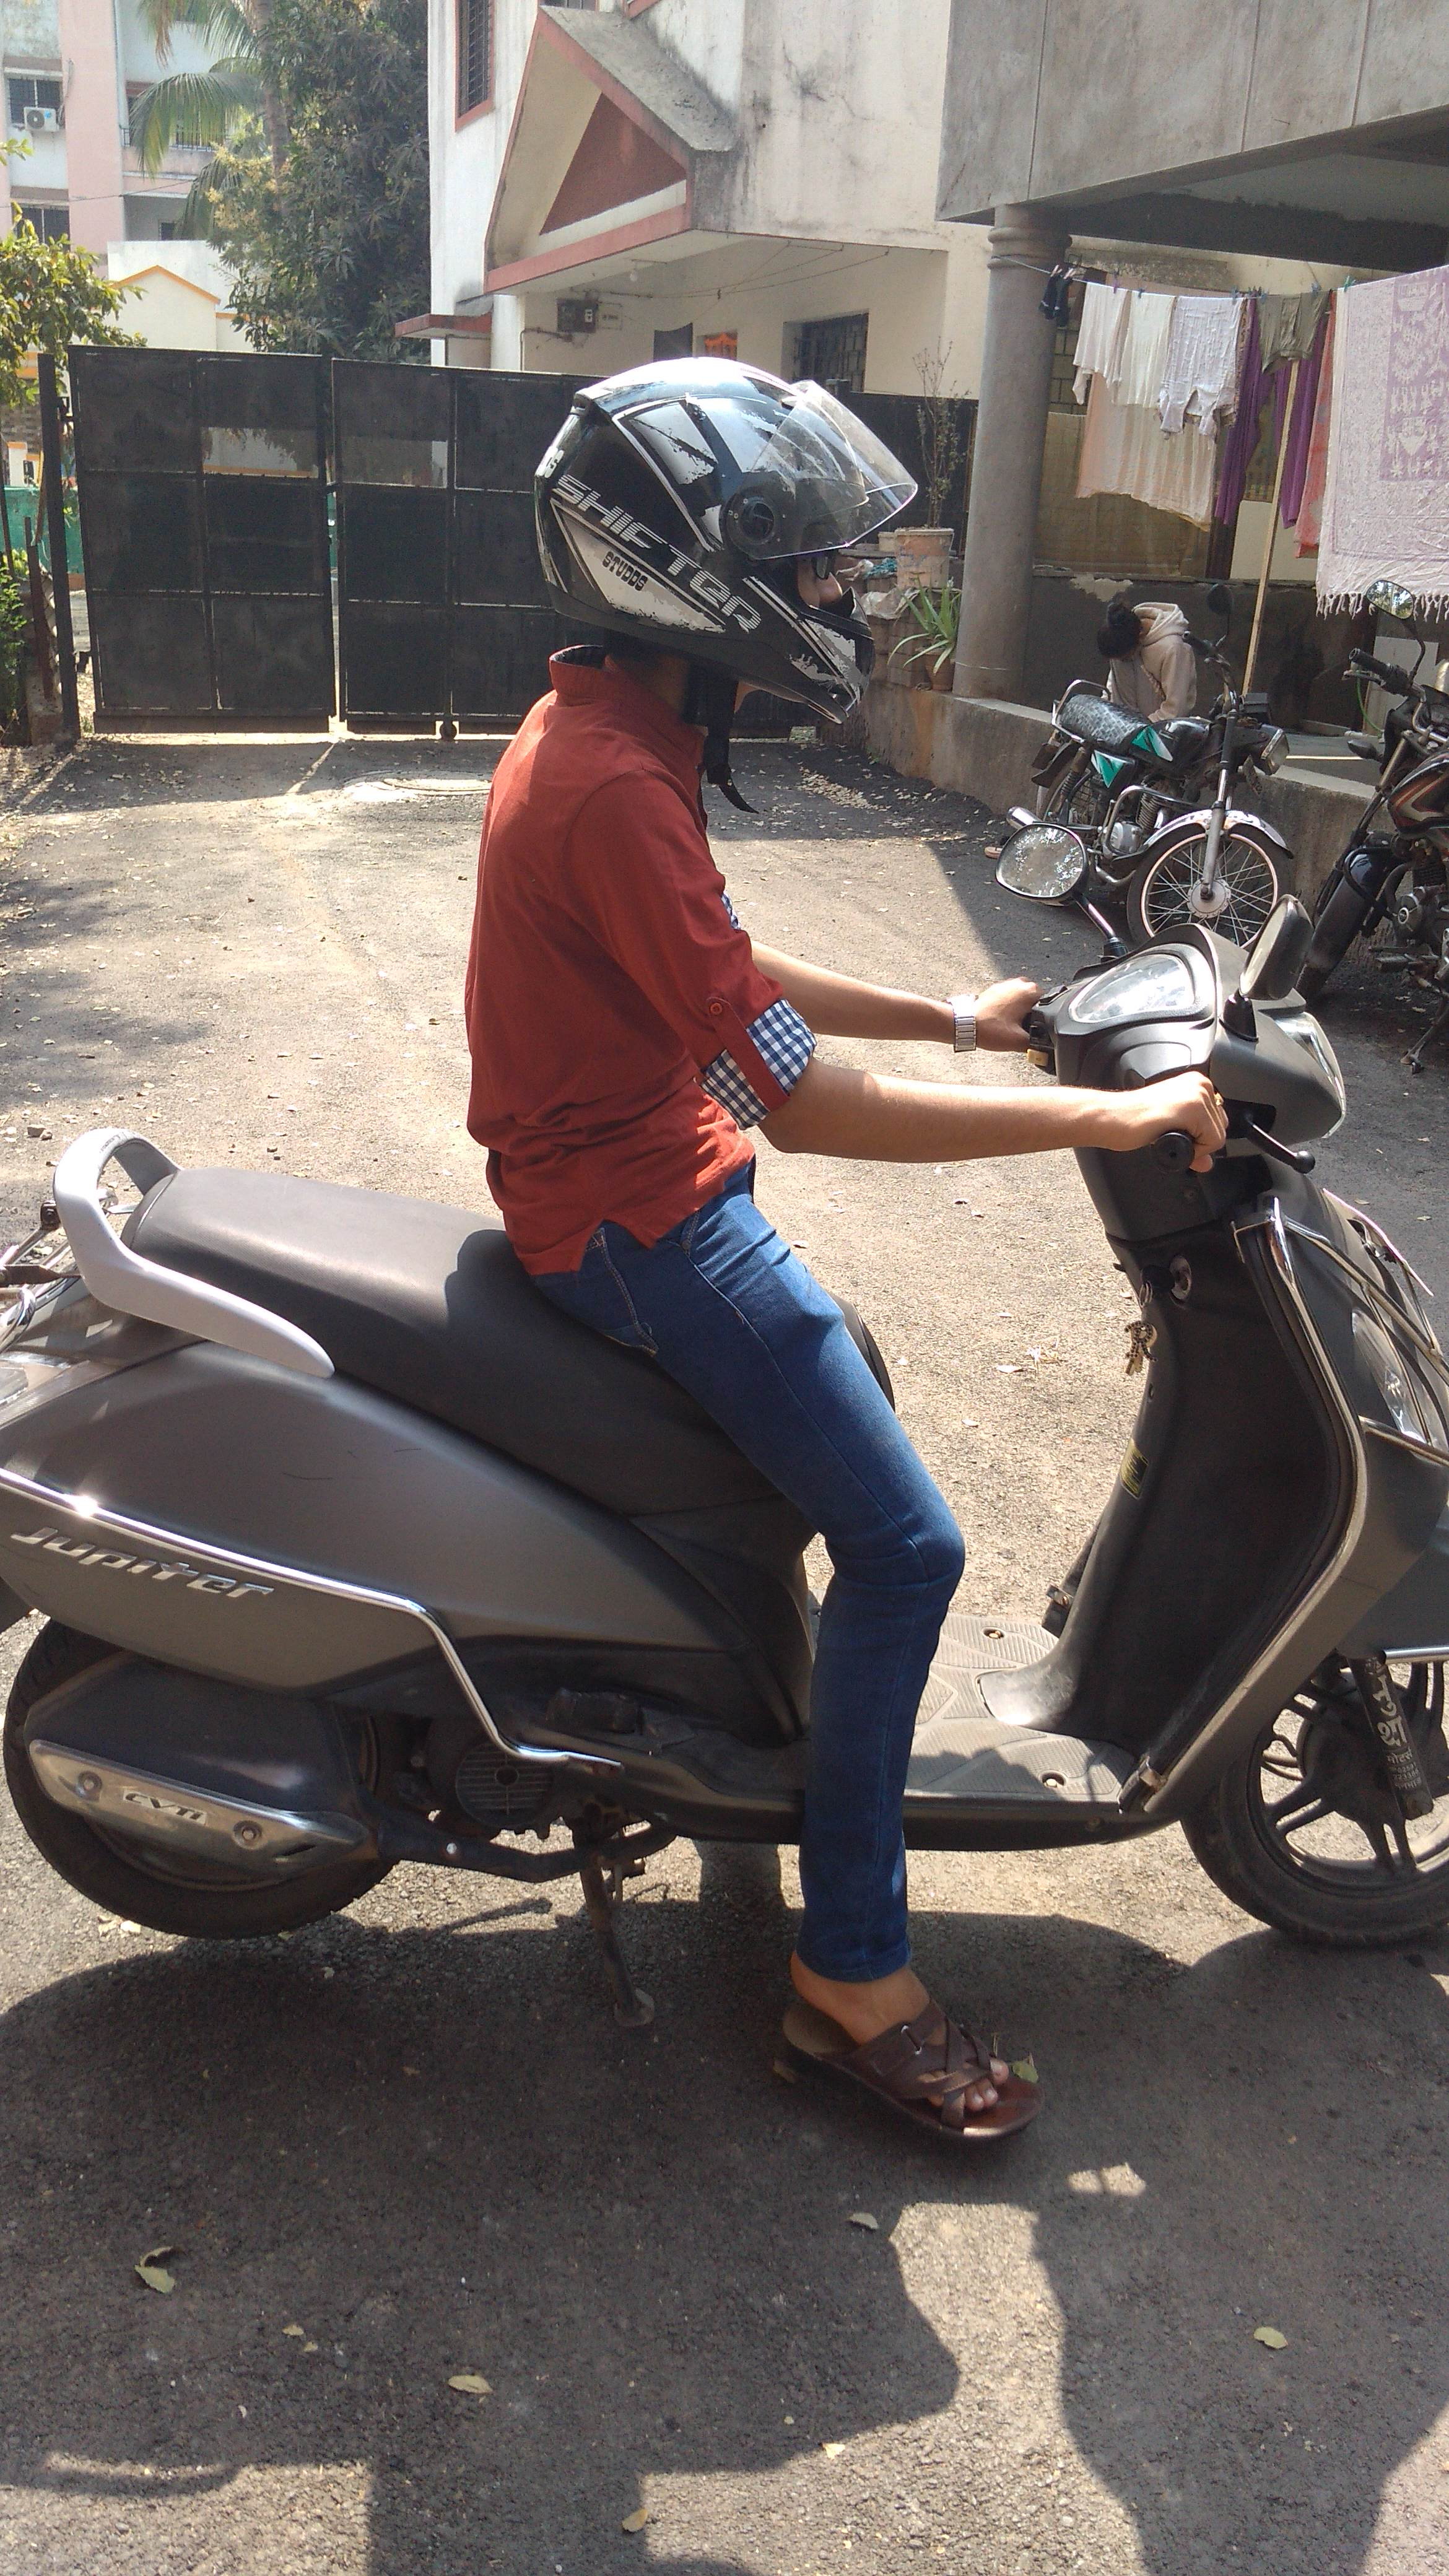helmet: (472, 343, 943, 1334)
